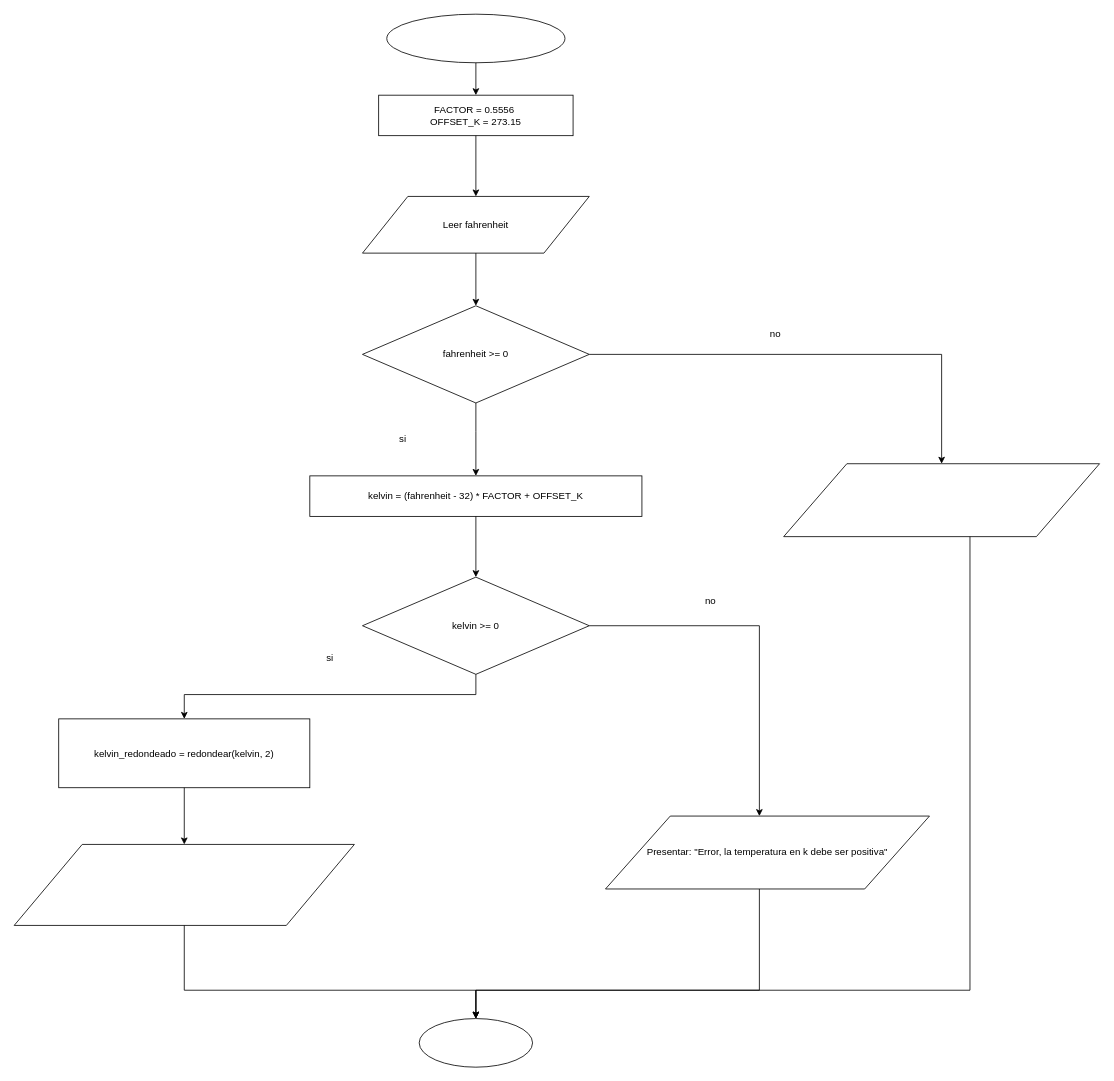
Image size: 1114x1081. Some labels were removed from this diagram. The shapes that lost their labels are listed below. From the top down, each one's centre as x and y in pixels, then its label:
(475,38): Inicio
(941,500): Presentar: "Error, la temperatura debe ser positiva"
(183,884): Presentar: fahrenheit + "F equivalen a " + kelvin_redondeado + " K"
(475,1042): Fin
